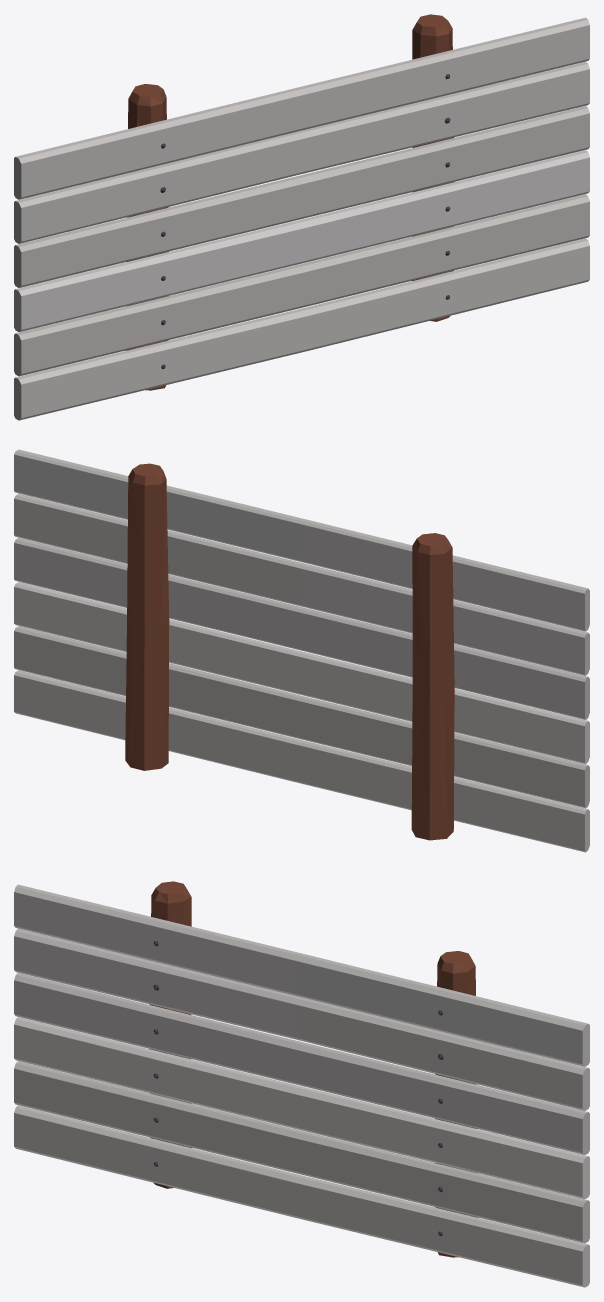
File: medialuna-wall-run-ba2071.glb
3 views of the same model, one above another, from view 1: azimuth 30°, elevation 25°; view 2: azimuth 150°, elevation 25°; view 3: azimuth 330°, elevation 25° (orthographic).
Parts seen in each view (by area): view 1: wall; view 2: wall; view 3: wall.
Part boxes in pixels (<box>): wall: <box>14,14,589,420</box>; wall: <box>14,449,589,852</box>; wall: <box>14,881,589,1287</box>.
Size of the model in its own units: 4.01 by 1.96 by 0.3282.
